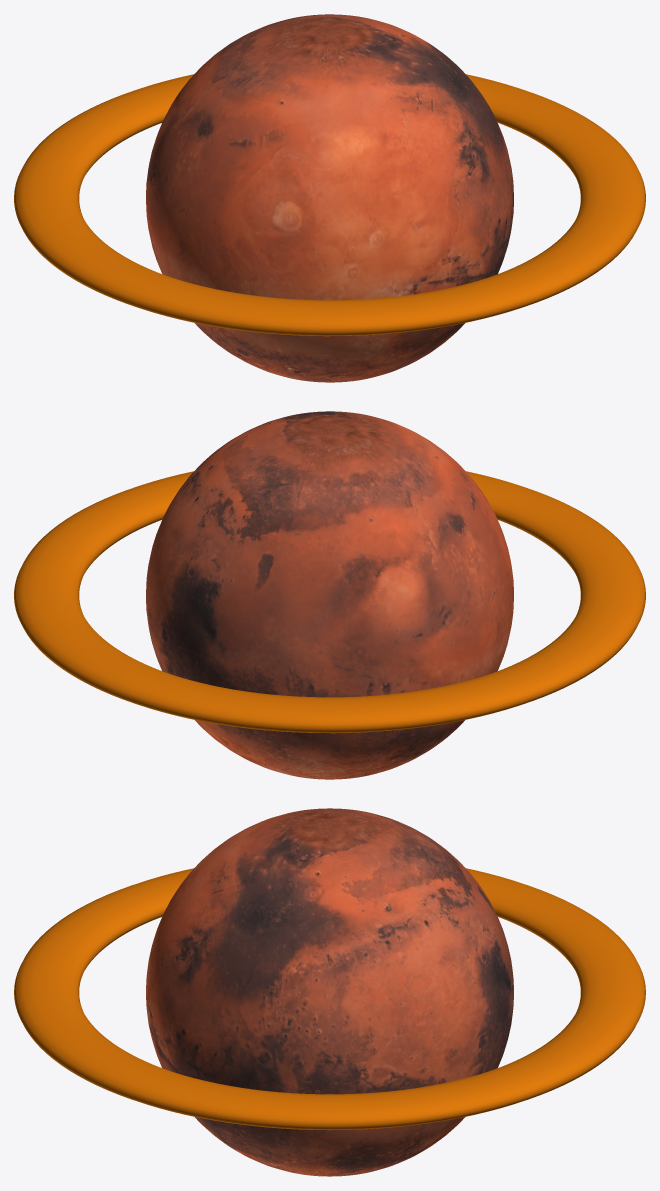
The model's file is Mars 4.glb.
The picture shows the model from 3 angles, top to bottom: view 1: azimuth 30°, elevation 25°; view 2: azimuth 150°, elevation 25°; view 3: azimuth 270°, elevation 25°; orthographic projection.
Parts seen in each view (by area): view 1: Mars, Circle.001; view 2: Mars, Circle.001; view 3: Mars, Circle.001.
Boxes of the visible parts, box(x1,y1,x2,y2) form: Mars: box(146, 14, 513, 382); Circle.001: box(14, 74, 645, 336); Mars: box(146, 411, 513, 779); Circle.001: box(14, 471, 645, 733); Mars: box(146, 808, 513, 1176); Circle.001: box(14, 868, 645, 1130).
Size of the model in its own units: 6.88 by 4.01 by 6.88.
Materials: 2 (1 with a texture image).
